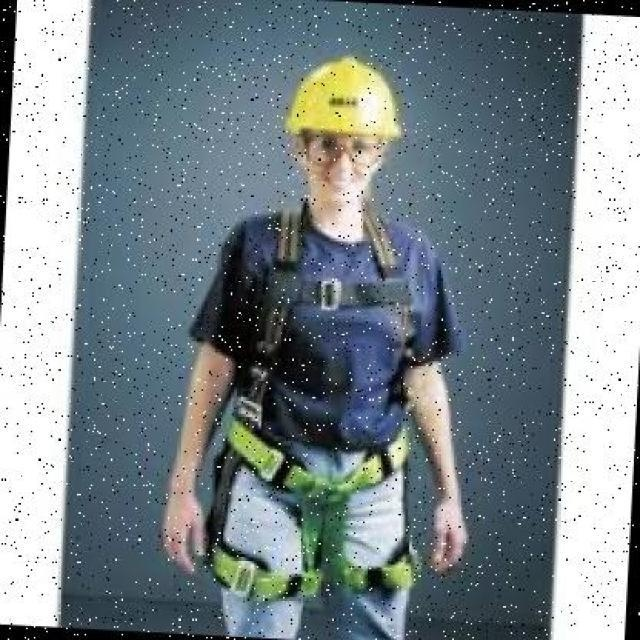Arnes_seguridad: (195, 202, 434, 610)
